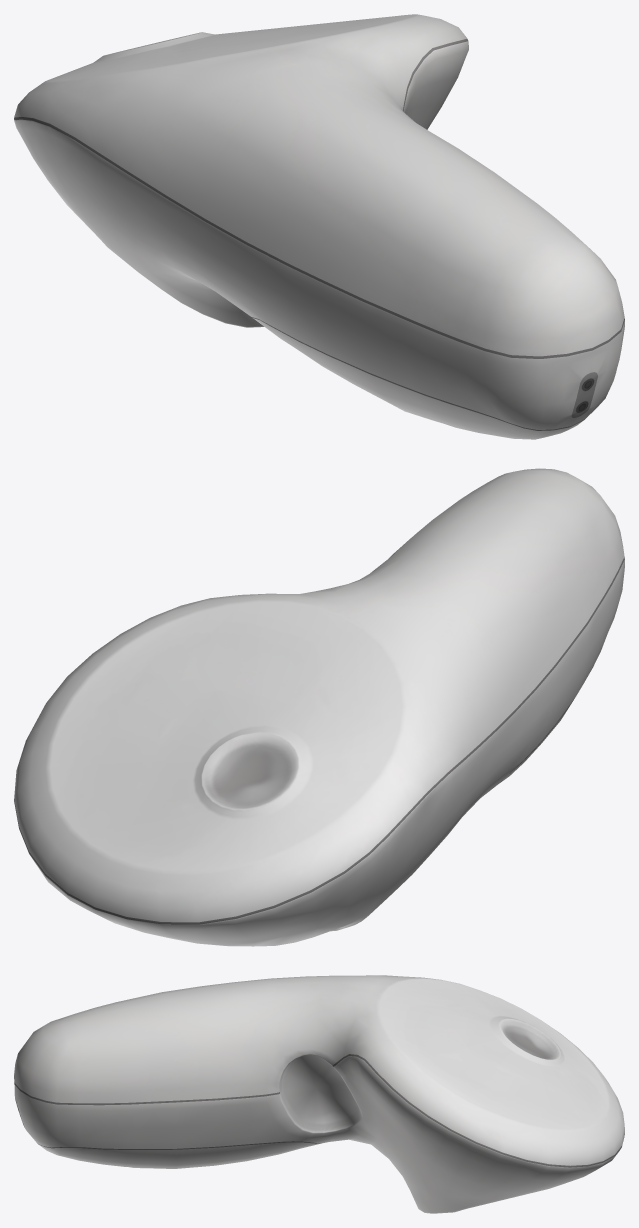
File: left_body.obj
3 renders of one model, top to bottom at view 1: azimuth 30°, elevation 25°; view 2: azimuth 150°, elevation 25°; view 3: azimuth 270°, elevation 25°, orthographic. The views are drawn at different scales.
Parts seen in each view (by area): view 1: left_body; view 2: left_body; view 3: left_body.
Part boxes in pixels (x1=…): left_body: x1=14, y1=14, x2=624, y2=439; left_body: x1=14, y1=468, x2=624, y2=946; left_body: x1=14, y1=975, x2=624, y2=1213.
Bounding box in the file's own units: 0.0697 × 0.0517 × 0.1377.
1 material, 1 textured.
